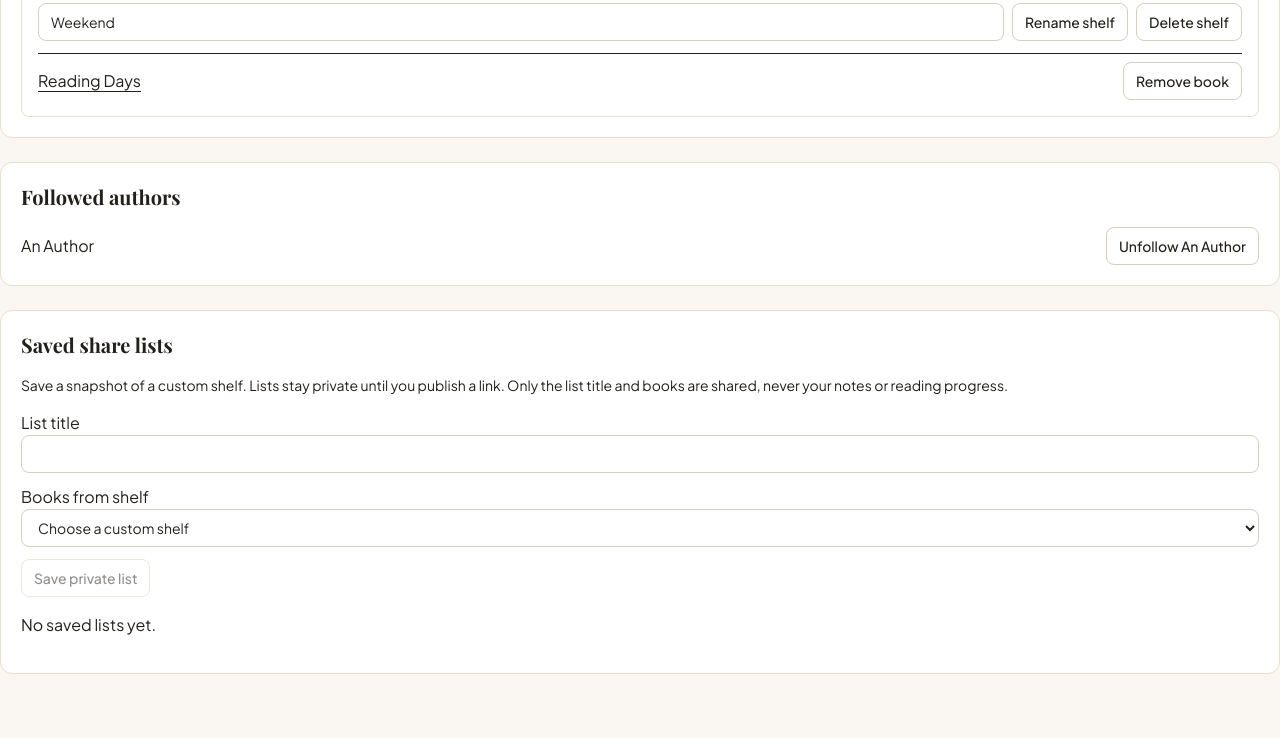
Test case: reader workspace › saves a private shelf snapshot, explicitly publishes, revokes and deletes it
(page scrolled)
Type "For friends" into the field labelled "List title".
click(640, 454); type("For friends")  # box top-left (21, 435), bottom-right (1259, 473)
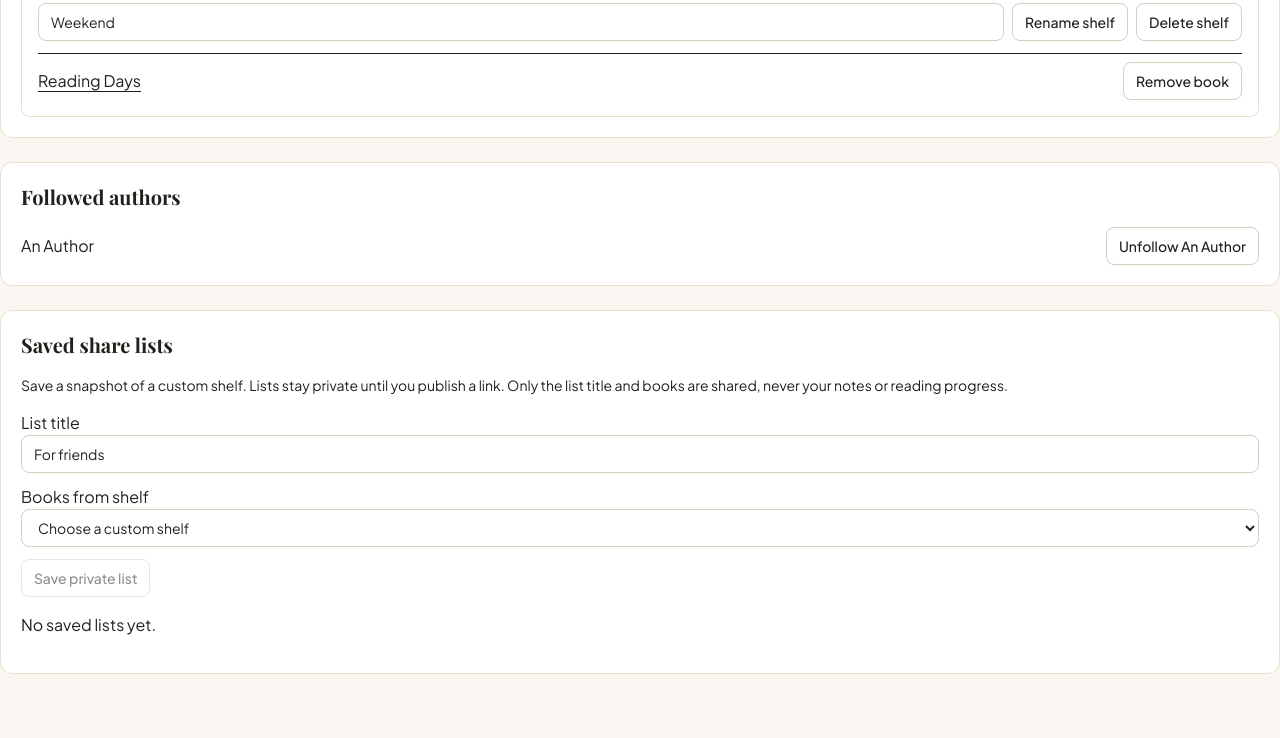
Select "Weekend" in the dropdown labelled "Books from shelf" at (640, 528), box top-left (21, 509), bottom-right (1259, 547)
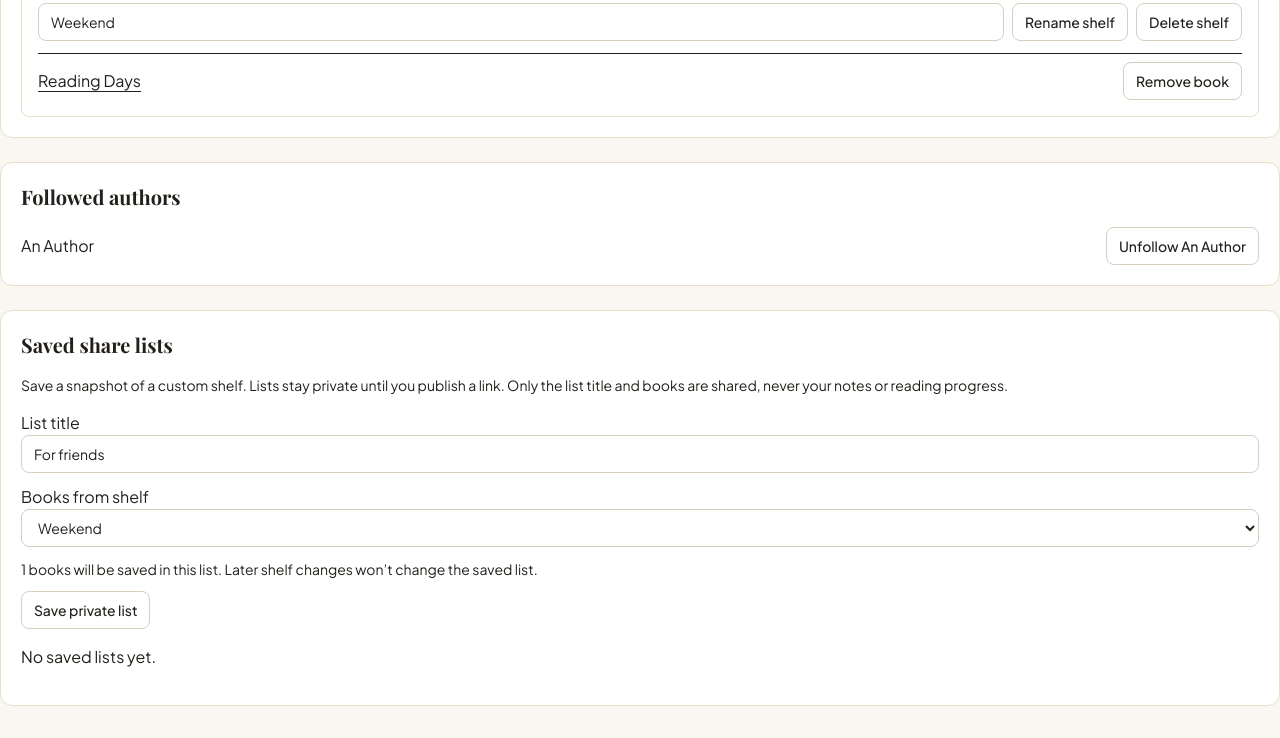
Click the button "Save private list".
click(86, 610)  # box top-left (21, 591), bottom-right (150, 629)
(page scrolled)
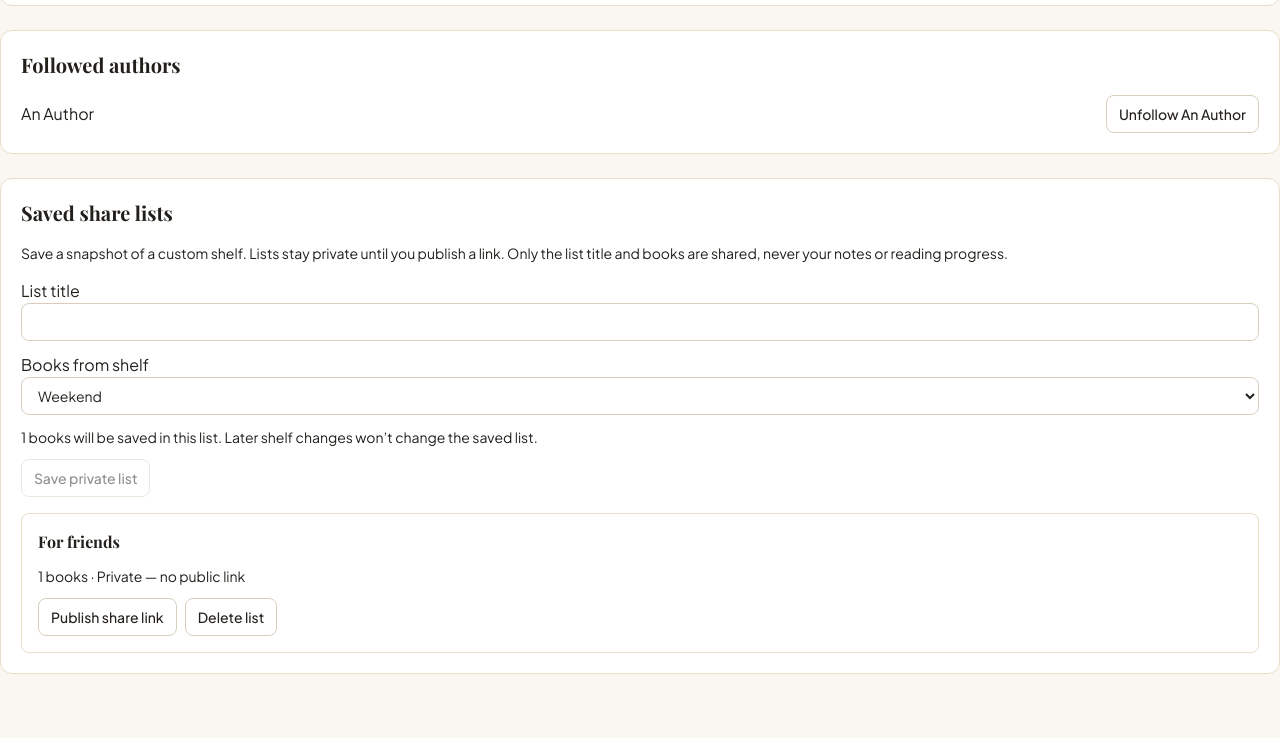
Click the button with aria-label "Publish For friends".
click(107, 617)  # box top-left (38, 598), bottom-right (177, 636)
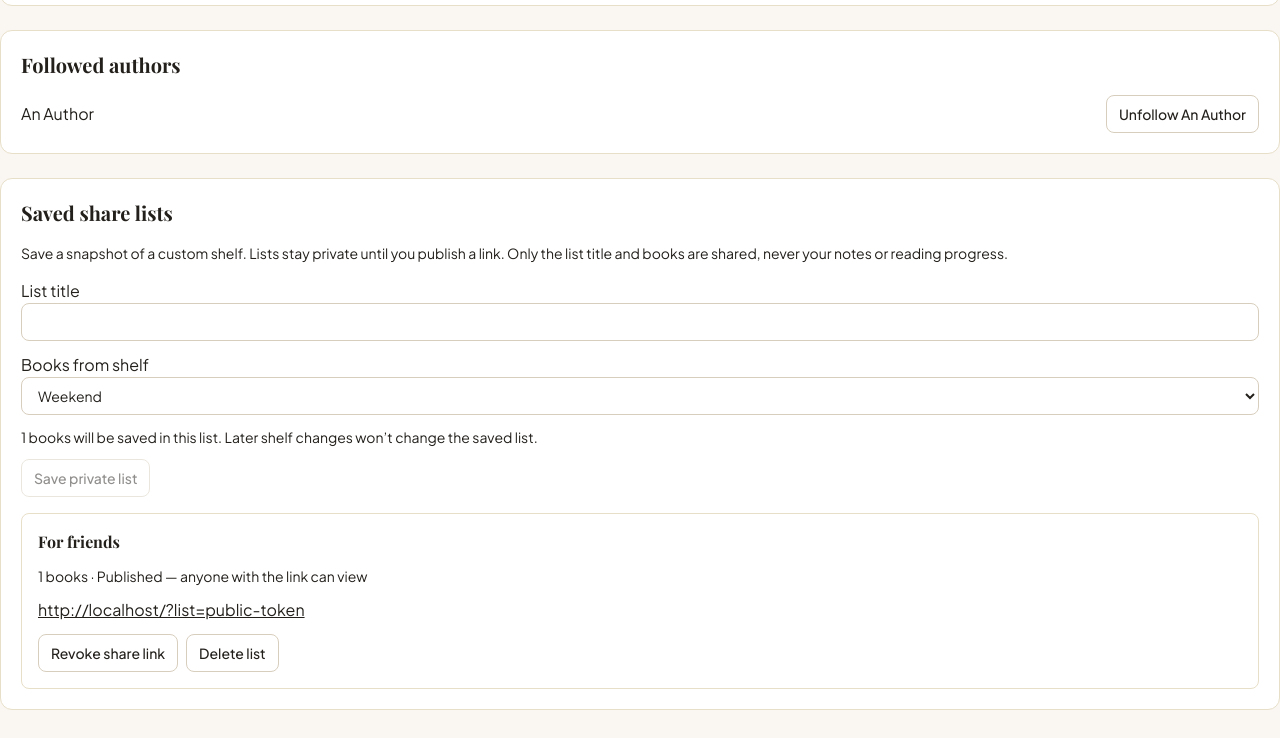
Click the button with aria-label "Revoke link for For friends".
click(108, 653)  # box top-left (38, 634), bottom-right (178, 672)
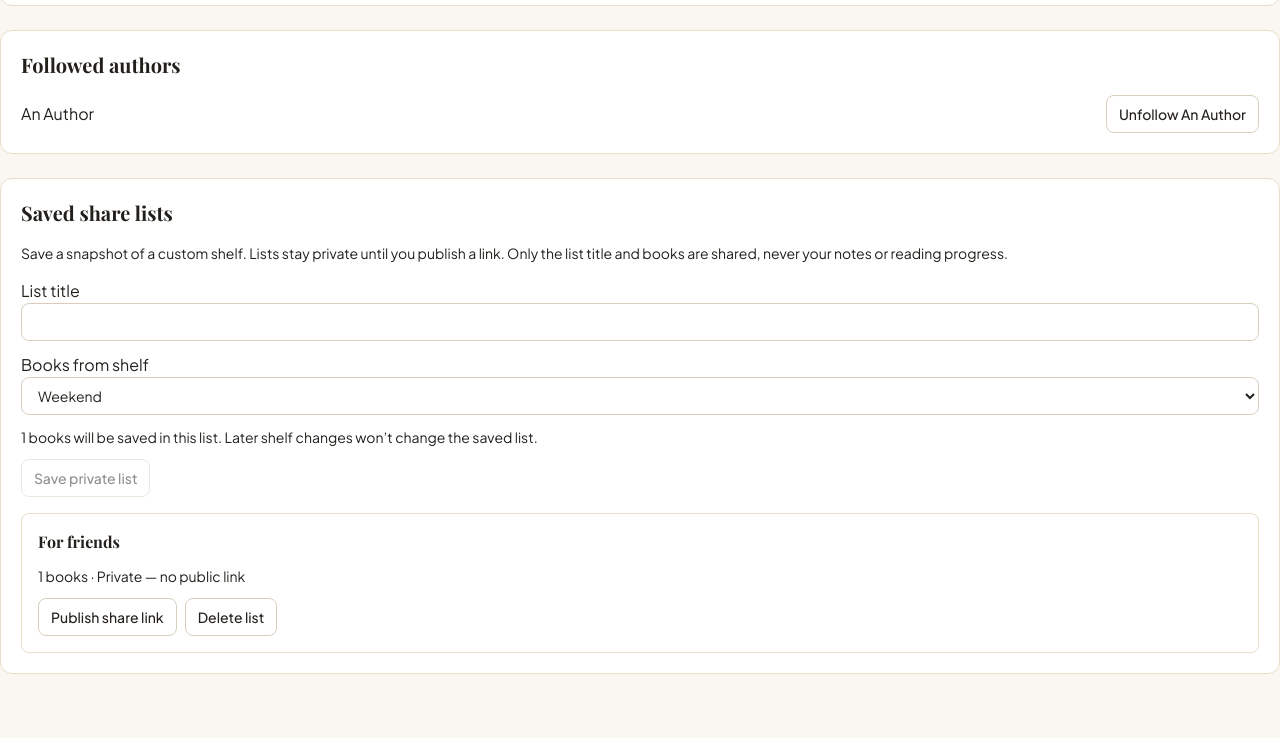
Expected: the link "http://localhost/?list=public-token" is gone
Click the button with aria-label "Delete list For friends".
click(231, 617)  # box top-left (185, 598), bottom-right (277, 636)
(page scrolled)
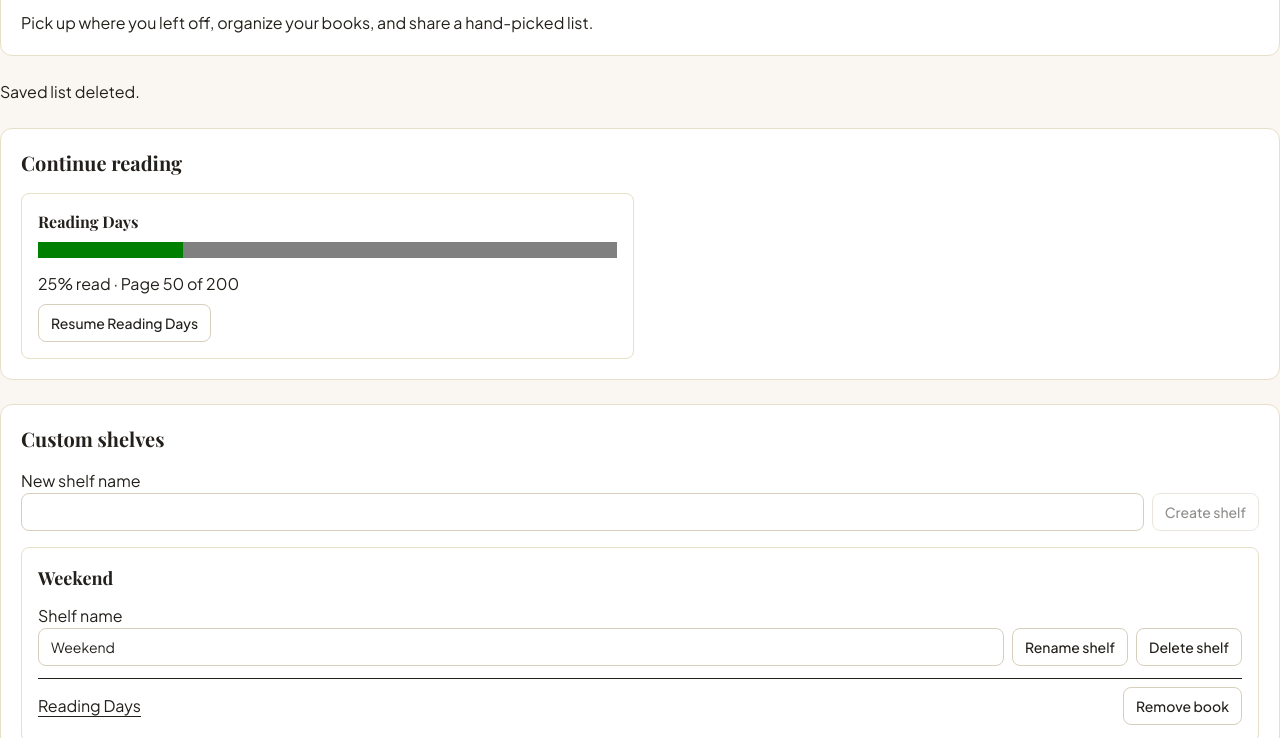
Expected: the text "Saved list deleted." is shown, top-left (0, 81), bottom-right (140, 102)
Expected: the heading "For friends" is gone
